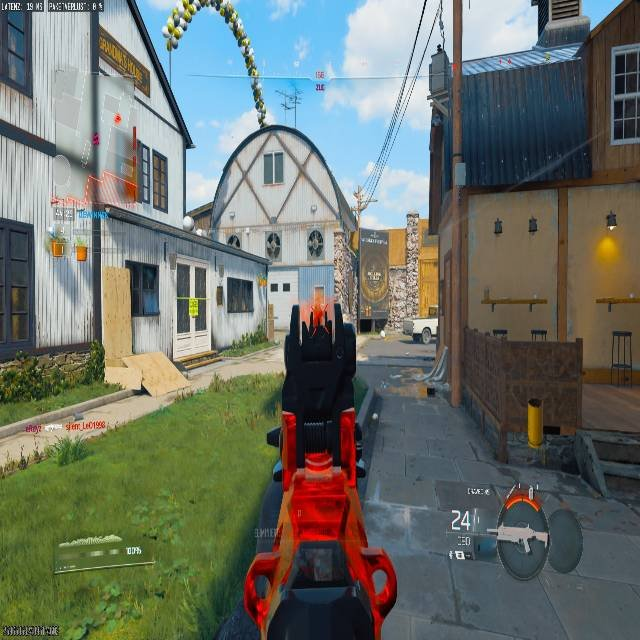player: (159, 0, 264, 104), (306, 227, 324, 261), (266, 232, 281, 261), (226, 234, 240, 247)
